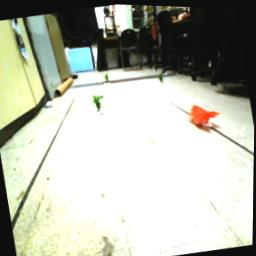herb: (91, 91, 109, 115), (158, 72, 168, 86)
wild: (188, 98, 224, 131)
